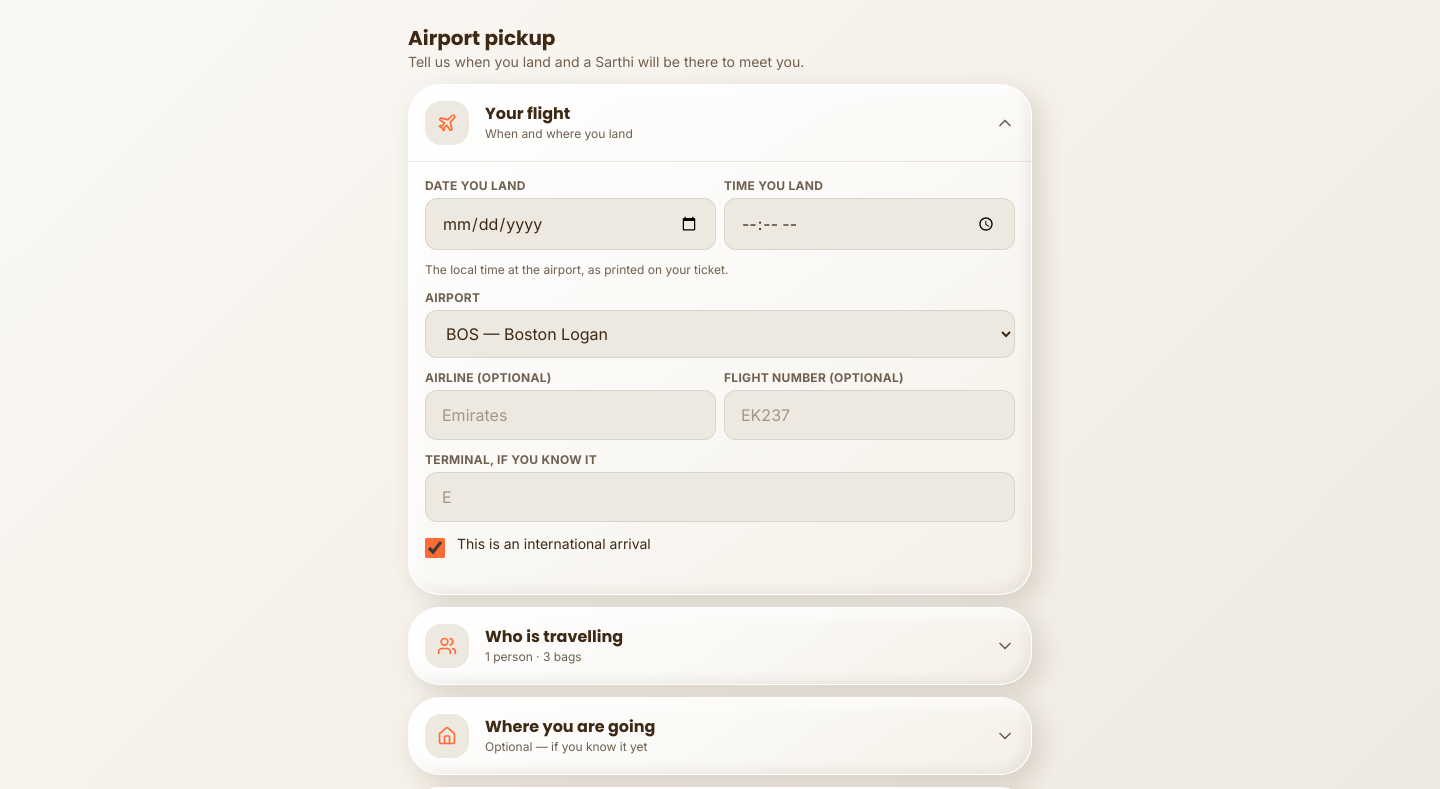
Scenario: the destination, which is now optional › says the address is optional, in the label
Click the button "Where you are going Optional — if you know it yet" at [447, 736], box [409,698,1031,774]
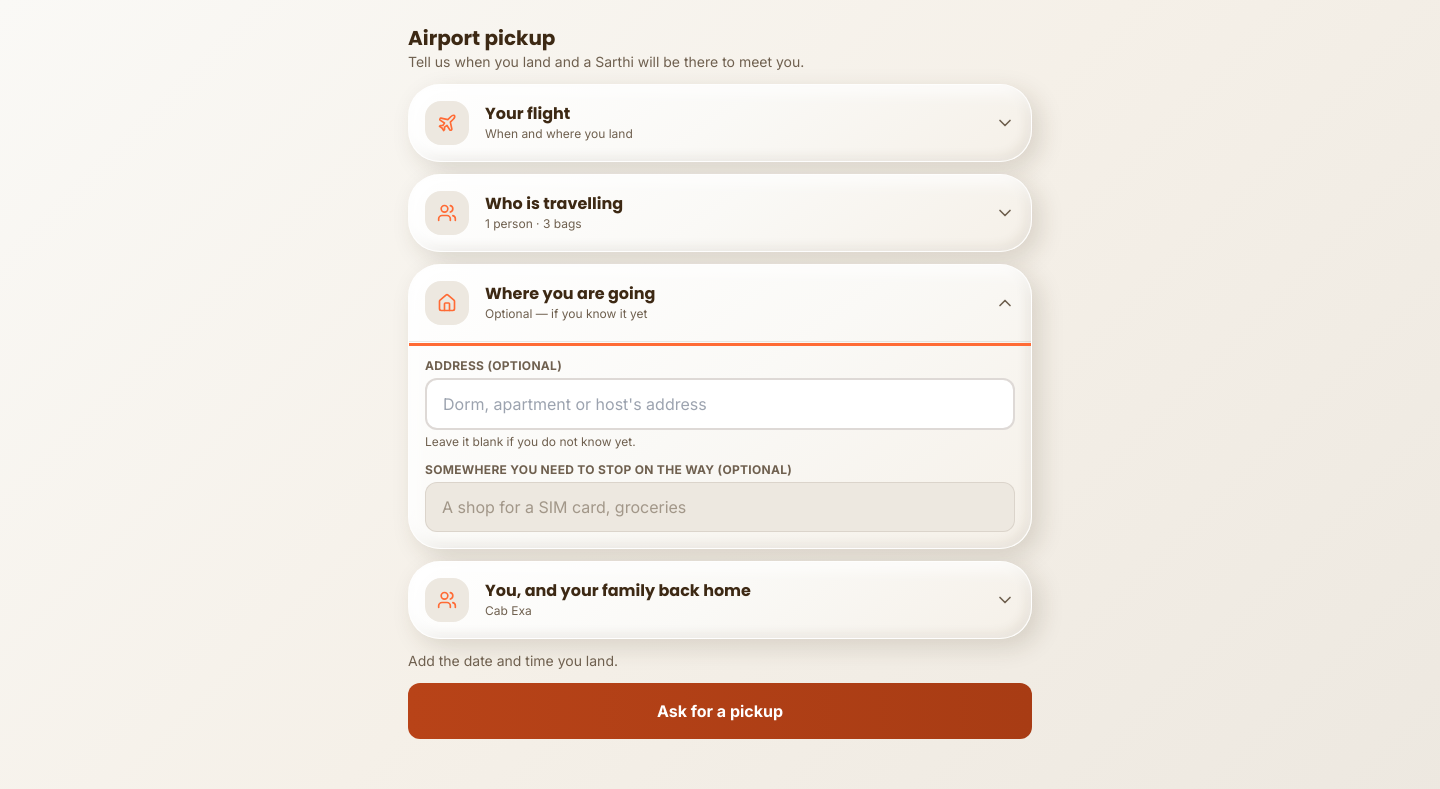
Expected: the text "Address (optional)" is shown, [425,358,562,373]
